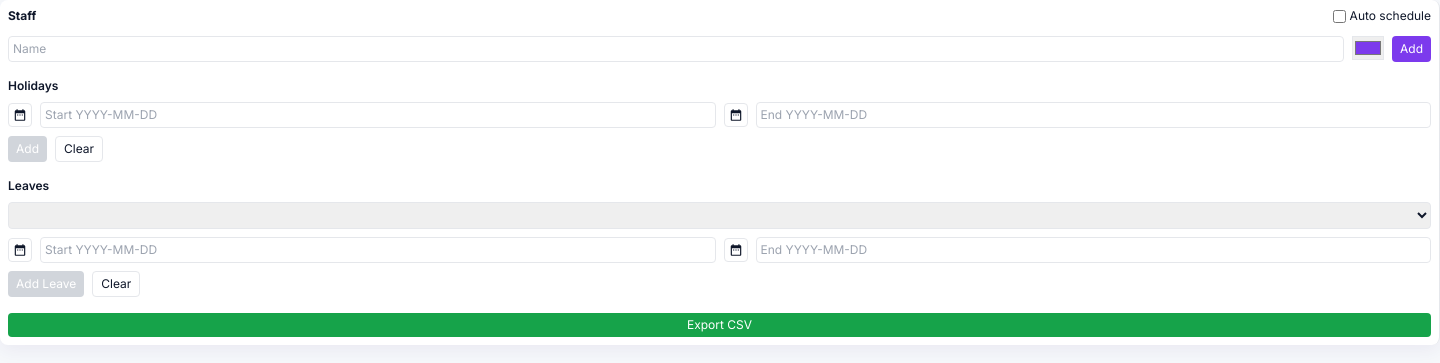
enables Add when only start is set
The image size is (1440, 363).
In the date field named "holiday start": (720,132) [8,102,1431,162], type "2025-09-10"
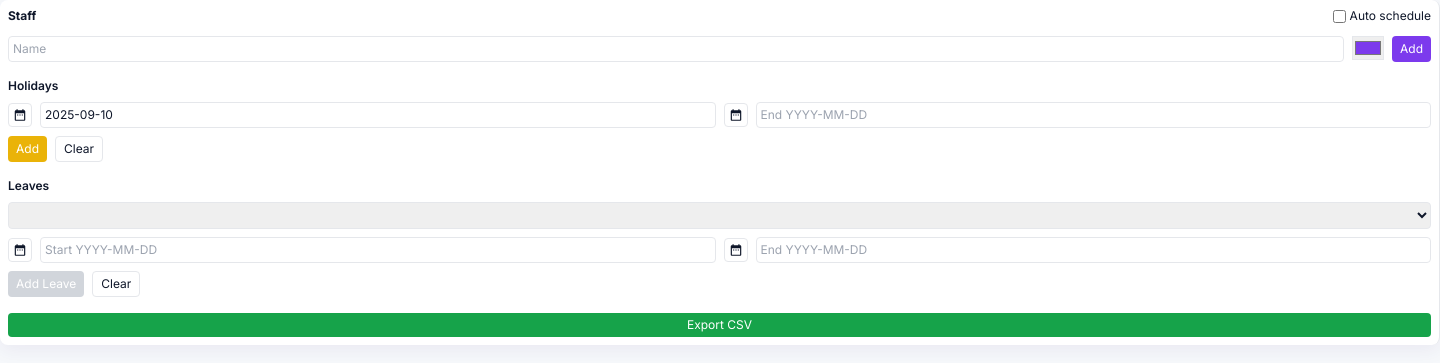
Expected: the button "Add" below "Holidays" is enabled, [8,136,47,162]
